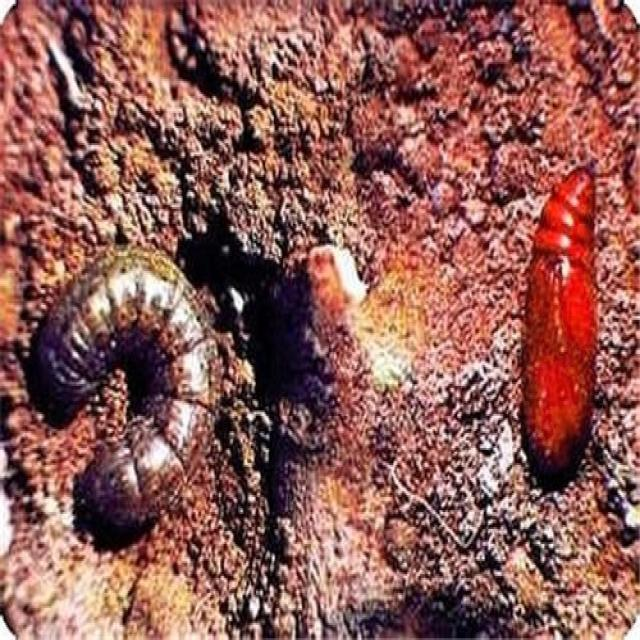black cutworm: (26, 237, 227, 553), (509, 153, 607, 486)
